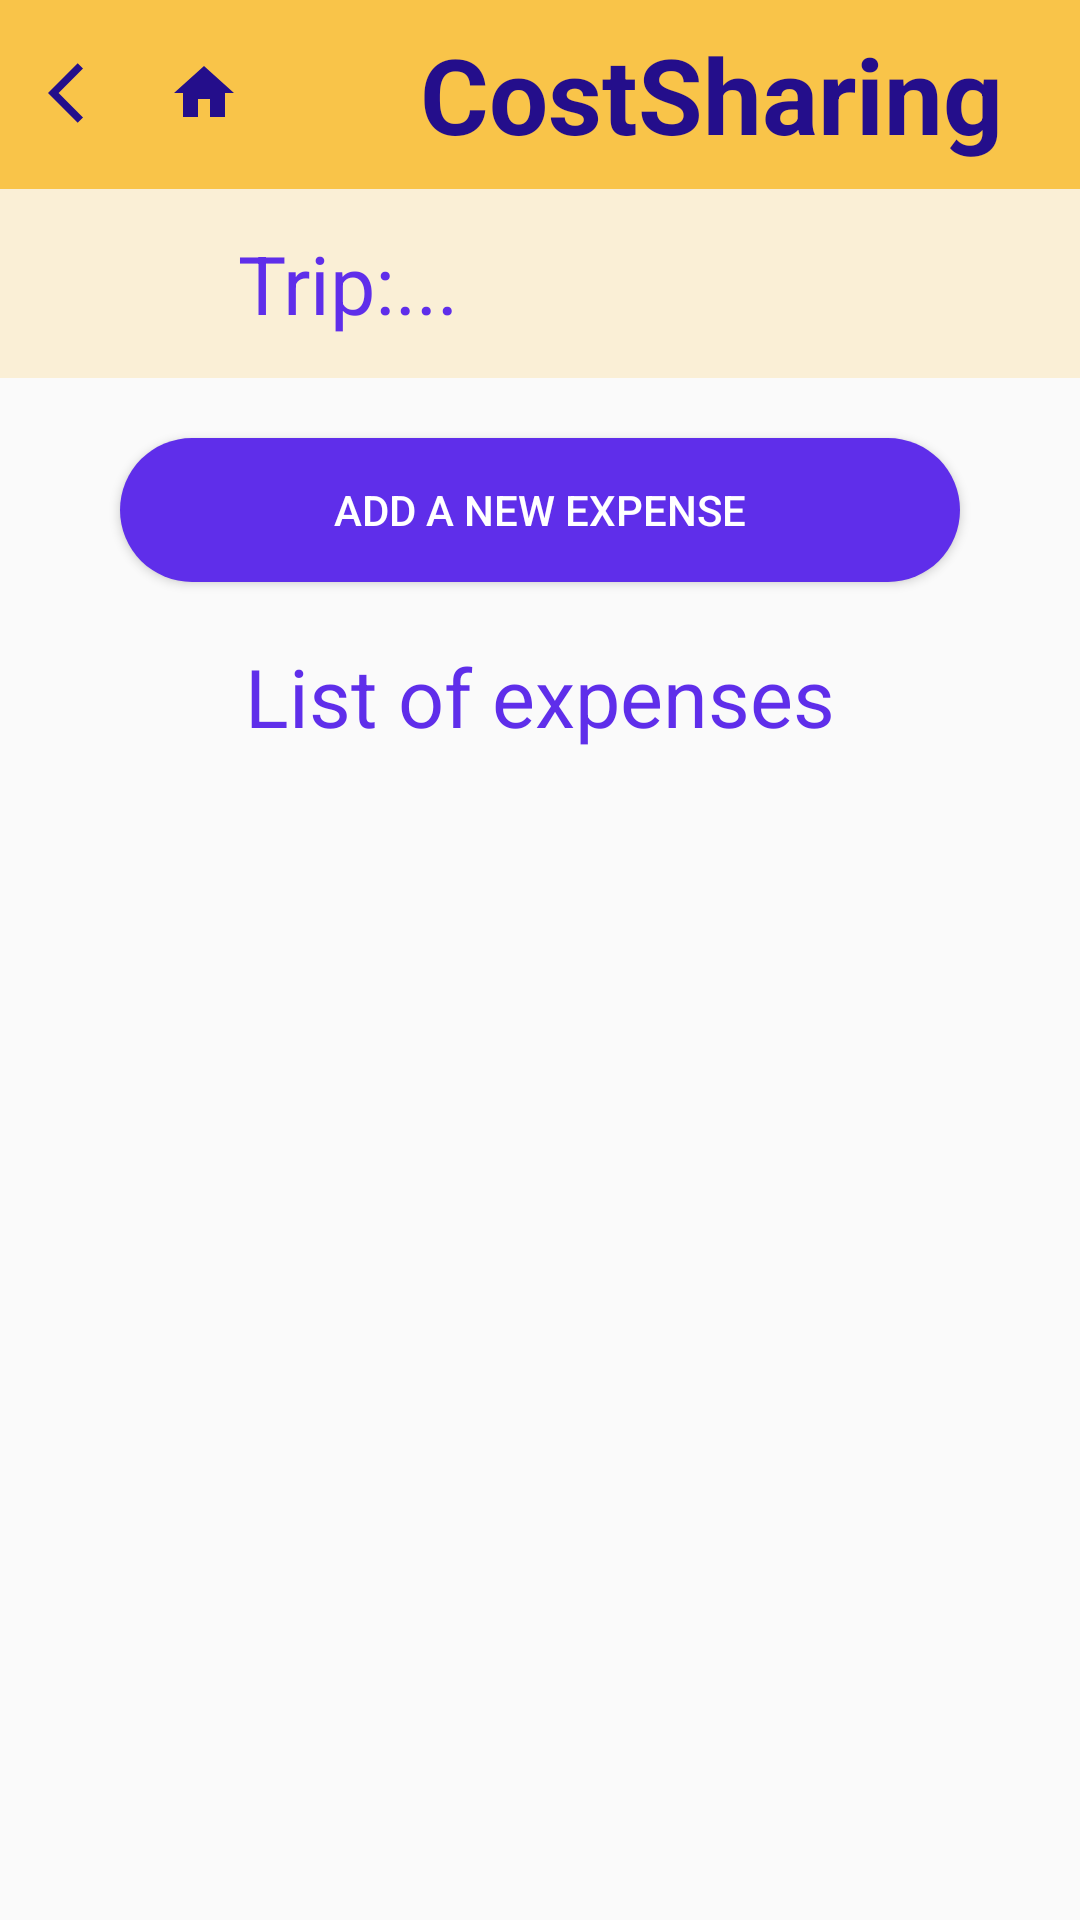

Icons on this 1080 × 1920 Android screen, each with the point to tap as (x,y):
back: (65,93)
home: (204,91)
